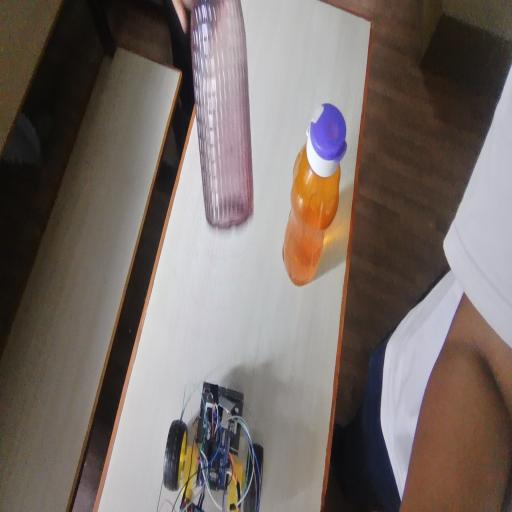Bottle: (189, 38, 271, 217), (295, 112, 372, 276)
car: (167, 373, 266, 498)
